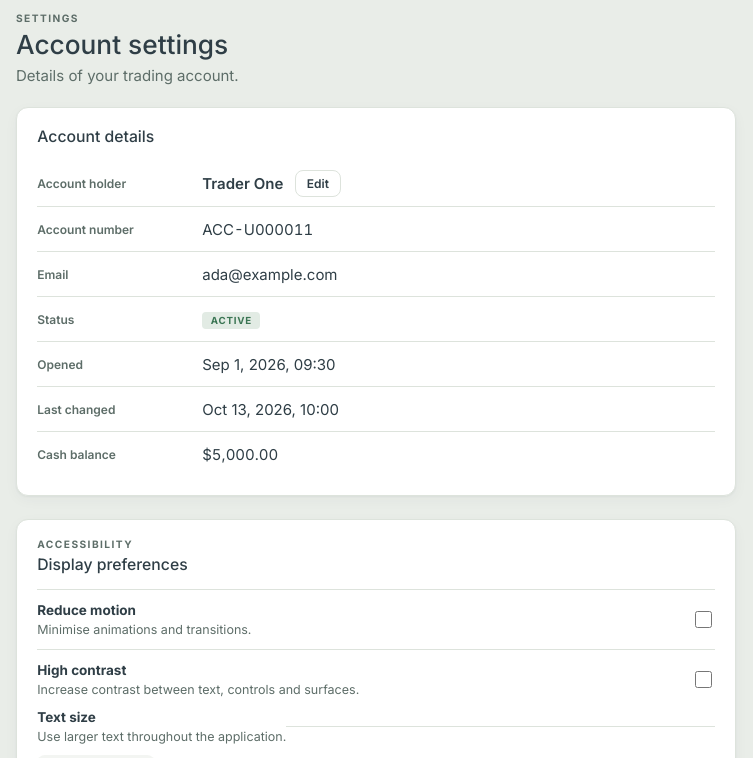
Scenario: SettingsComponent › shows the API's message when the rename fails and keeps the form open
Click the button with class "edit-name".
click(318, 184)  # box [294,170,341,197]
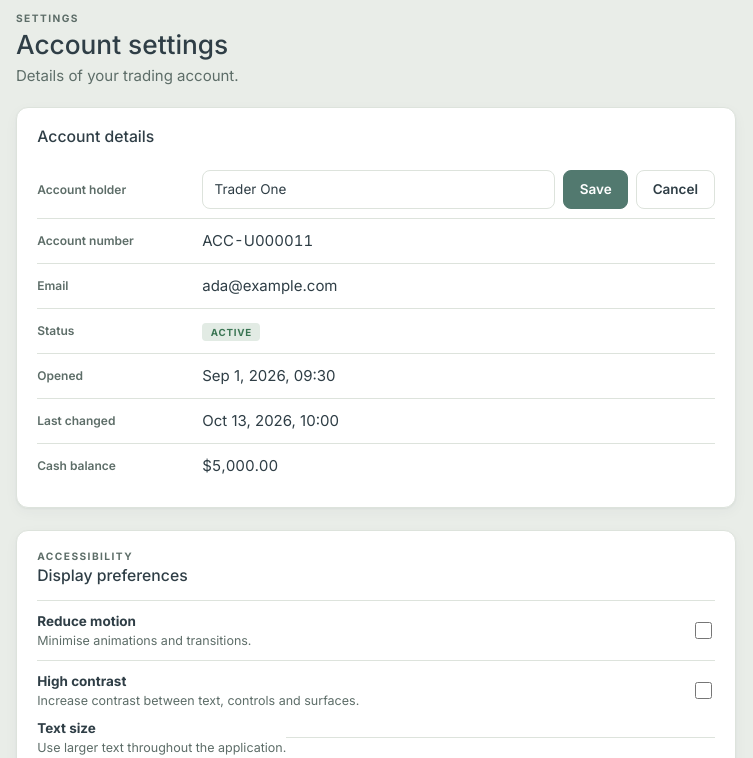
Replace the text in the field with id "holder-name" with "Ada Lovelace" at (379,189), box [202,170,556,209]
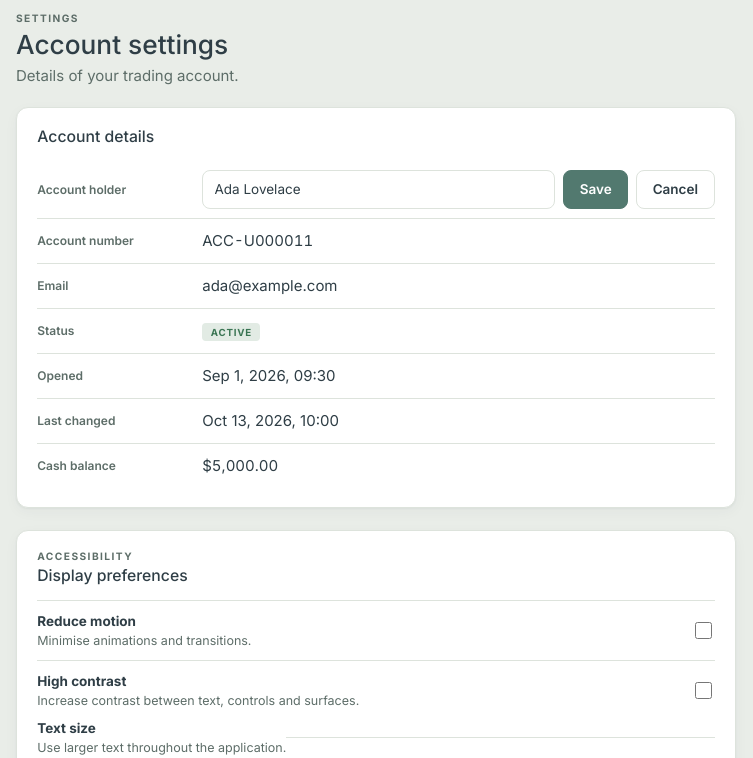
Submit the form with class "name-form", box [202,170,715,209]
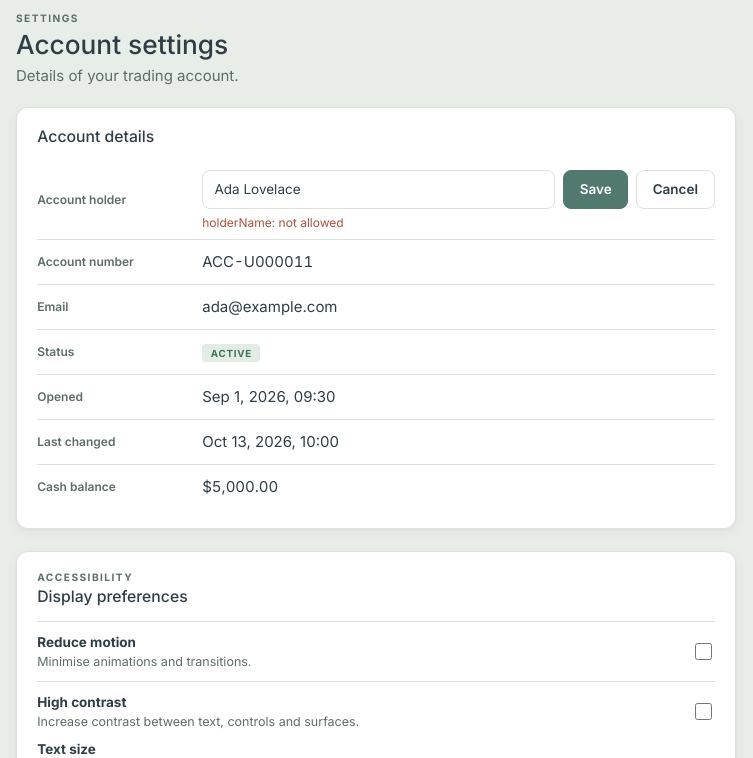
Now the message with class "field-error" reads "holderName: not allowed", box [202,215,344,230]
